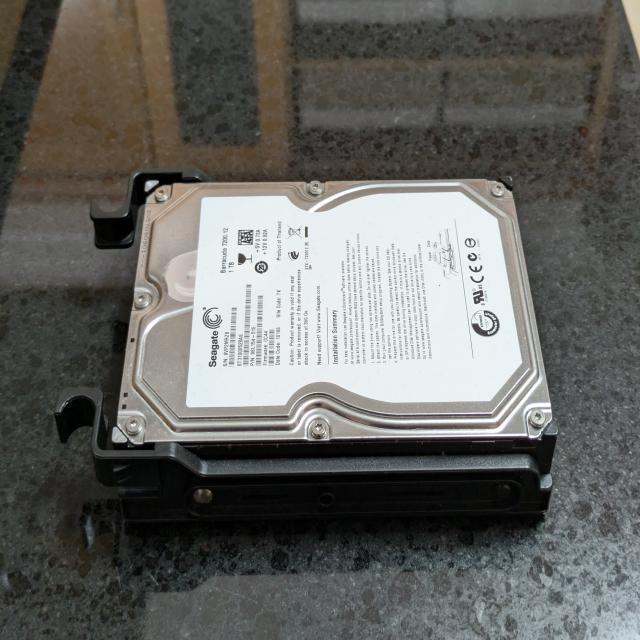DISK: (111, 173, 558, 514)
